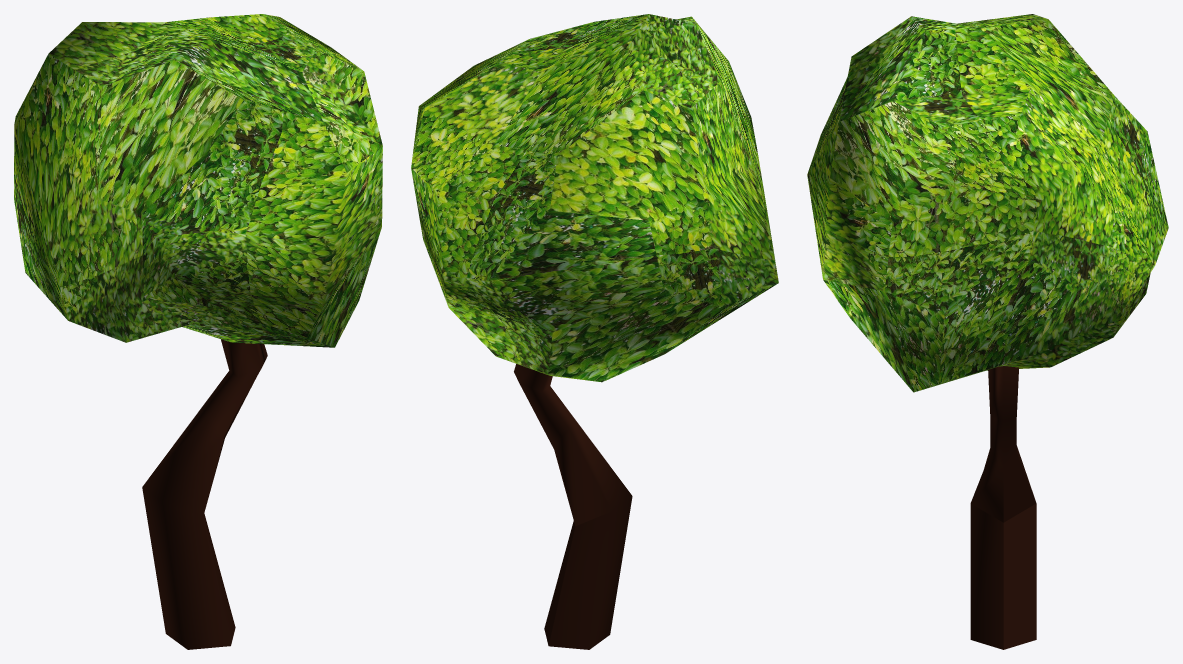
The model's file is Tree.obj.
3 renders of one model, left to right at view 1: azimuth 30°, elevation 25°; view 2: azimuth 150°, elevation 25°; view 3: azimuth 270°, elevation 25°, orthographic. The views are drawn at different scales.
Visible parts, largest first — view 1: tree; view 2: tree; view 3: tree.
Part boxes in pixels (<box>): tree: <box>14,14,382,649</box>; tree: <box>411,14,778,649</box>; tree: <box>807,14,1168,649</box>.
Bounding box in the file's own units: 3.29 × 6.07 × 3.38.
2 materials, 1 textured.
